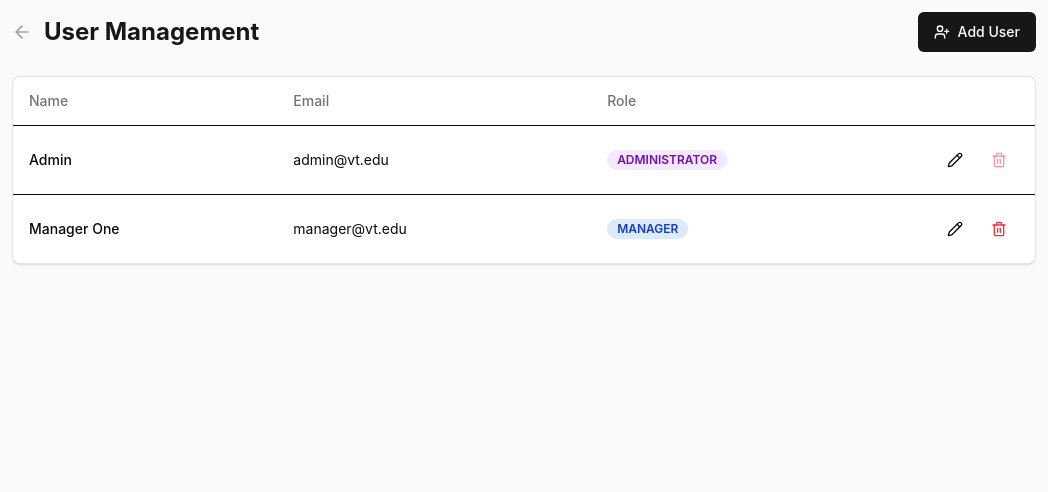
Scenario: User Management › shows the add user form when button is clicked
This screenshot has width=1048, height=492.
Click the button "Add User" at (977, 32), box [918,12,1036,52]
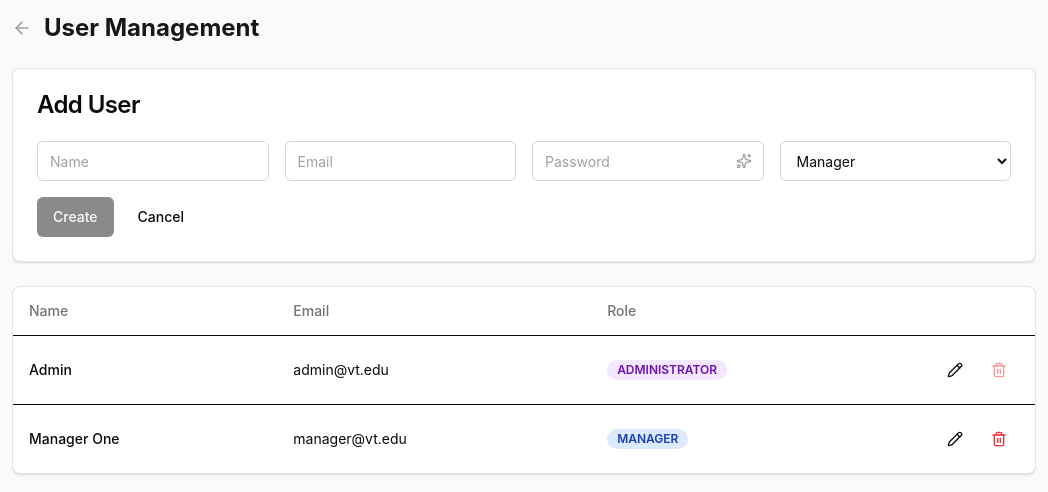
expect the field with placeholder "Name" is shown: met, box [37,141,268,181]
expect the field with placeholder "Email" is shown: met, box [284,141,516,181]
expect the field with placeholder "Password" is shown: met, box [532,141,764,181]
